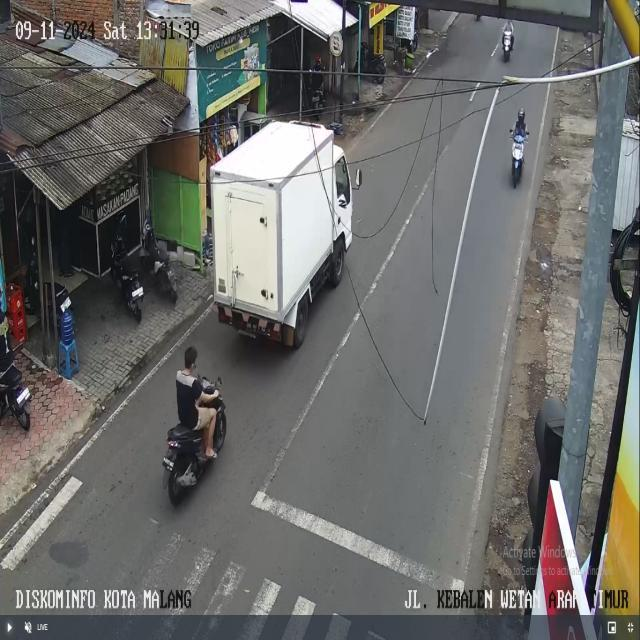Helmet: (517, 108, 524, 121), (315, 55, 322, 64)
Number Plate: (16, 388, 30, 405), (162, 457, 173, 470), (61, 297, 70, 311), (132, 287, 143, 298)
Rearview Mirror: (355, 169, 362, 189), (217, 376, 222, 385)
